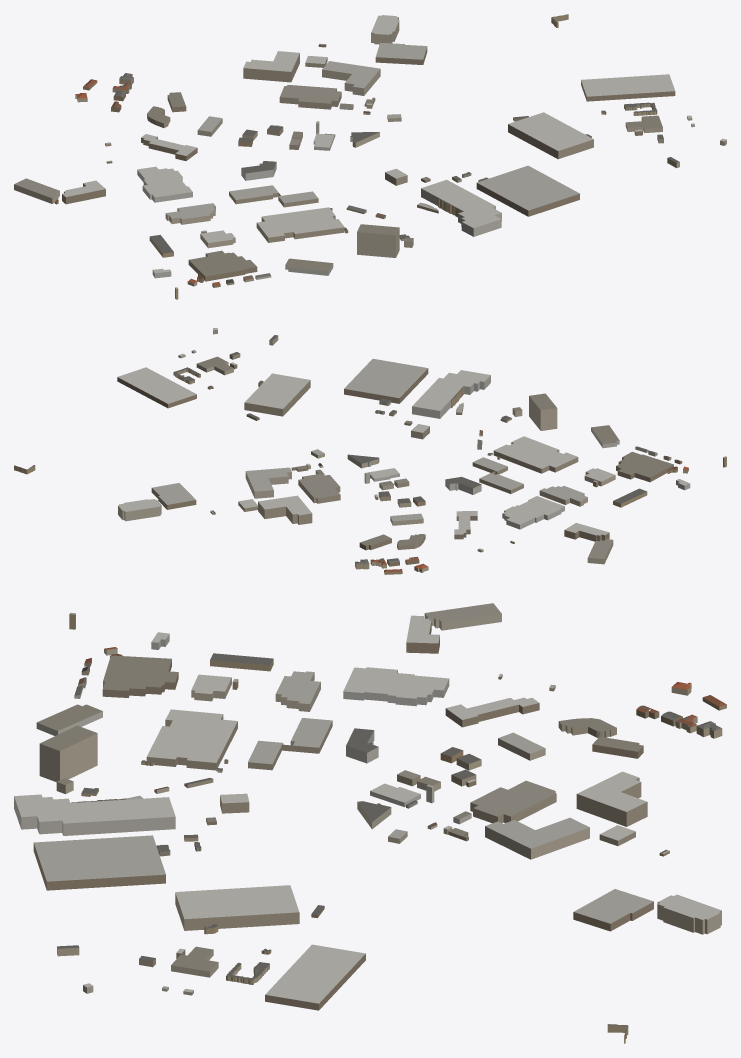
3 renders of one model, top to bottom at view 1: azimuth 30°, elevation 25°; view 2: azimuth 150°, elevation 25°; view 3: azimuth 270°, elevation 25°, orthographic. The views are drawn at different scales.
Parts seen in each view (by area): view 1: buildings_r3_c6_lod1; view 2: buildings_r3_c6_lod1; view 3: buildings_r3_c6_lod1.
Boxes of the visible parts, x1,y1,x2,y2 form: buildings_r3_c6_lod1: [14, 14, 726, 299]; buildings_r3_c6_lod1: [14, 328, 726, 574]; buildings_r3_c6_lod1: [14, 603, 726, 1043].
Size of the model in its own units: 1162 by 58.27 by 836.
